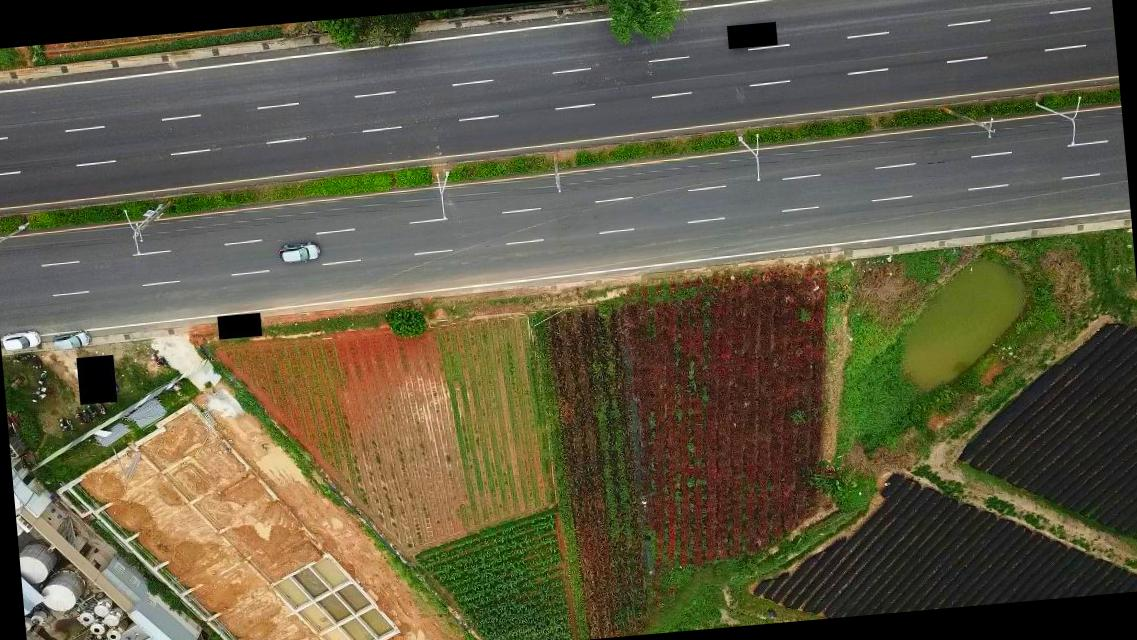vehicle: (276, 238, 322, 269), (0, 328, 42, 353), (50, 330, 91, 352)
